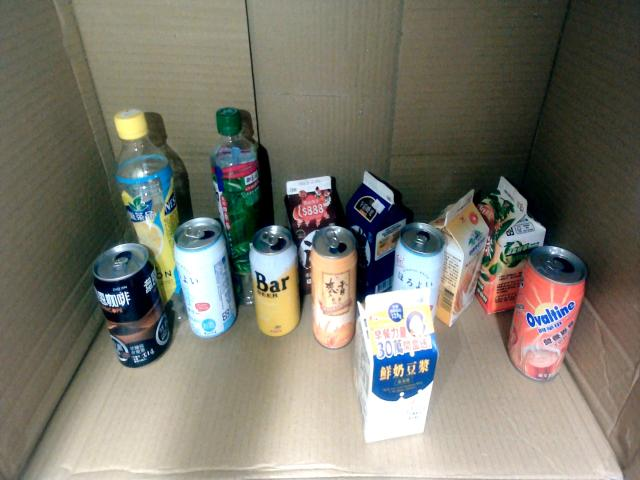Canned_drinks: (506, 245, 589, 383), (92, 243, 172, 369), (173, 216, 238, 340), (248, 224, 302, 338), (310, 225, 358, 350), (392, 222, 446, 326)
bottle: (114, 108, 190, 328), (209, 106, 263, 308)
